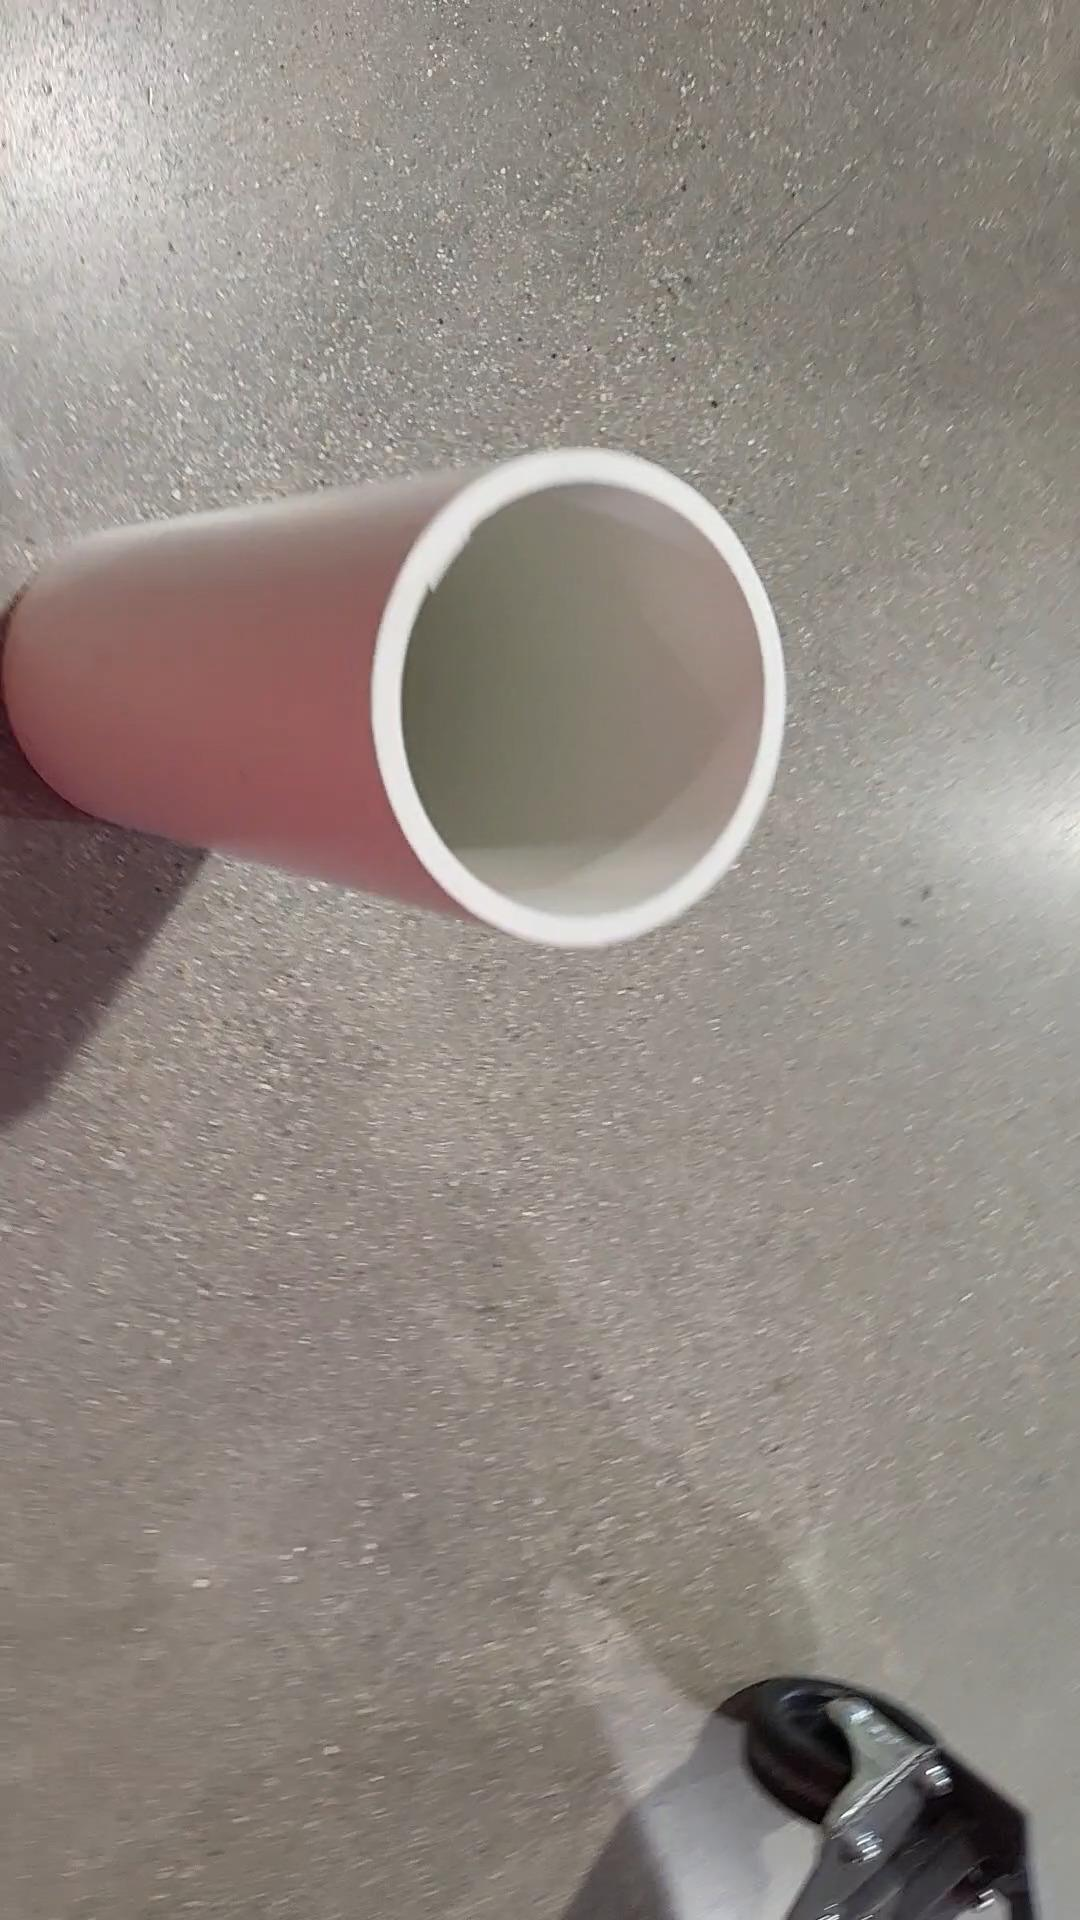coral: (5, 445, 780, 950)
